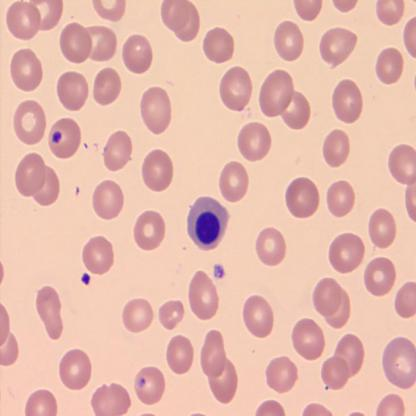NRC: (184, 194, 230, 252)
